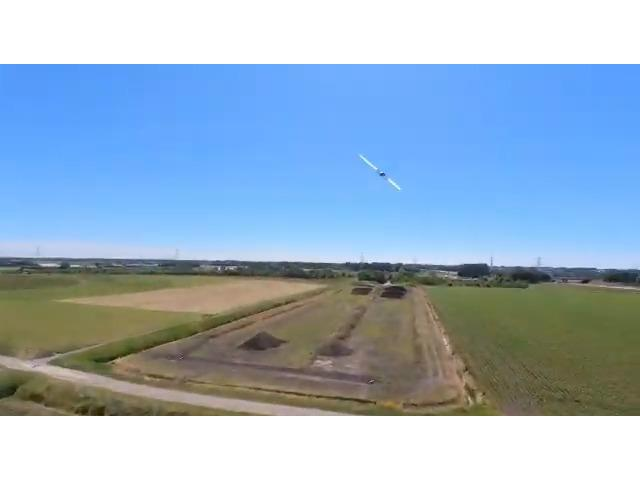Anti-Drone: (350, 148, 412, 200)
